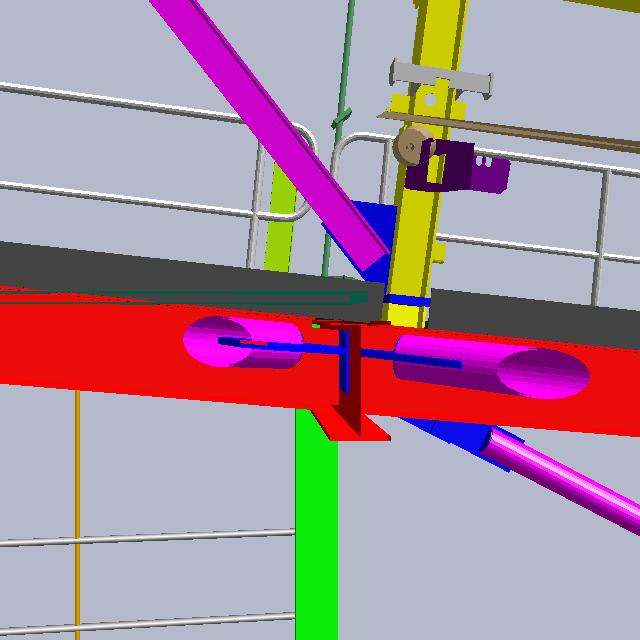Poste: (304, 1, 362, 332)
Soporte: (232, 99, 317, 333)
